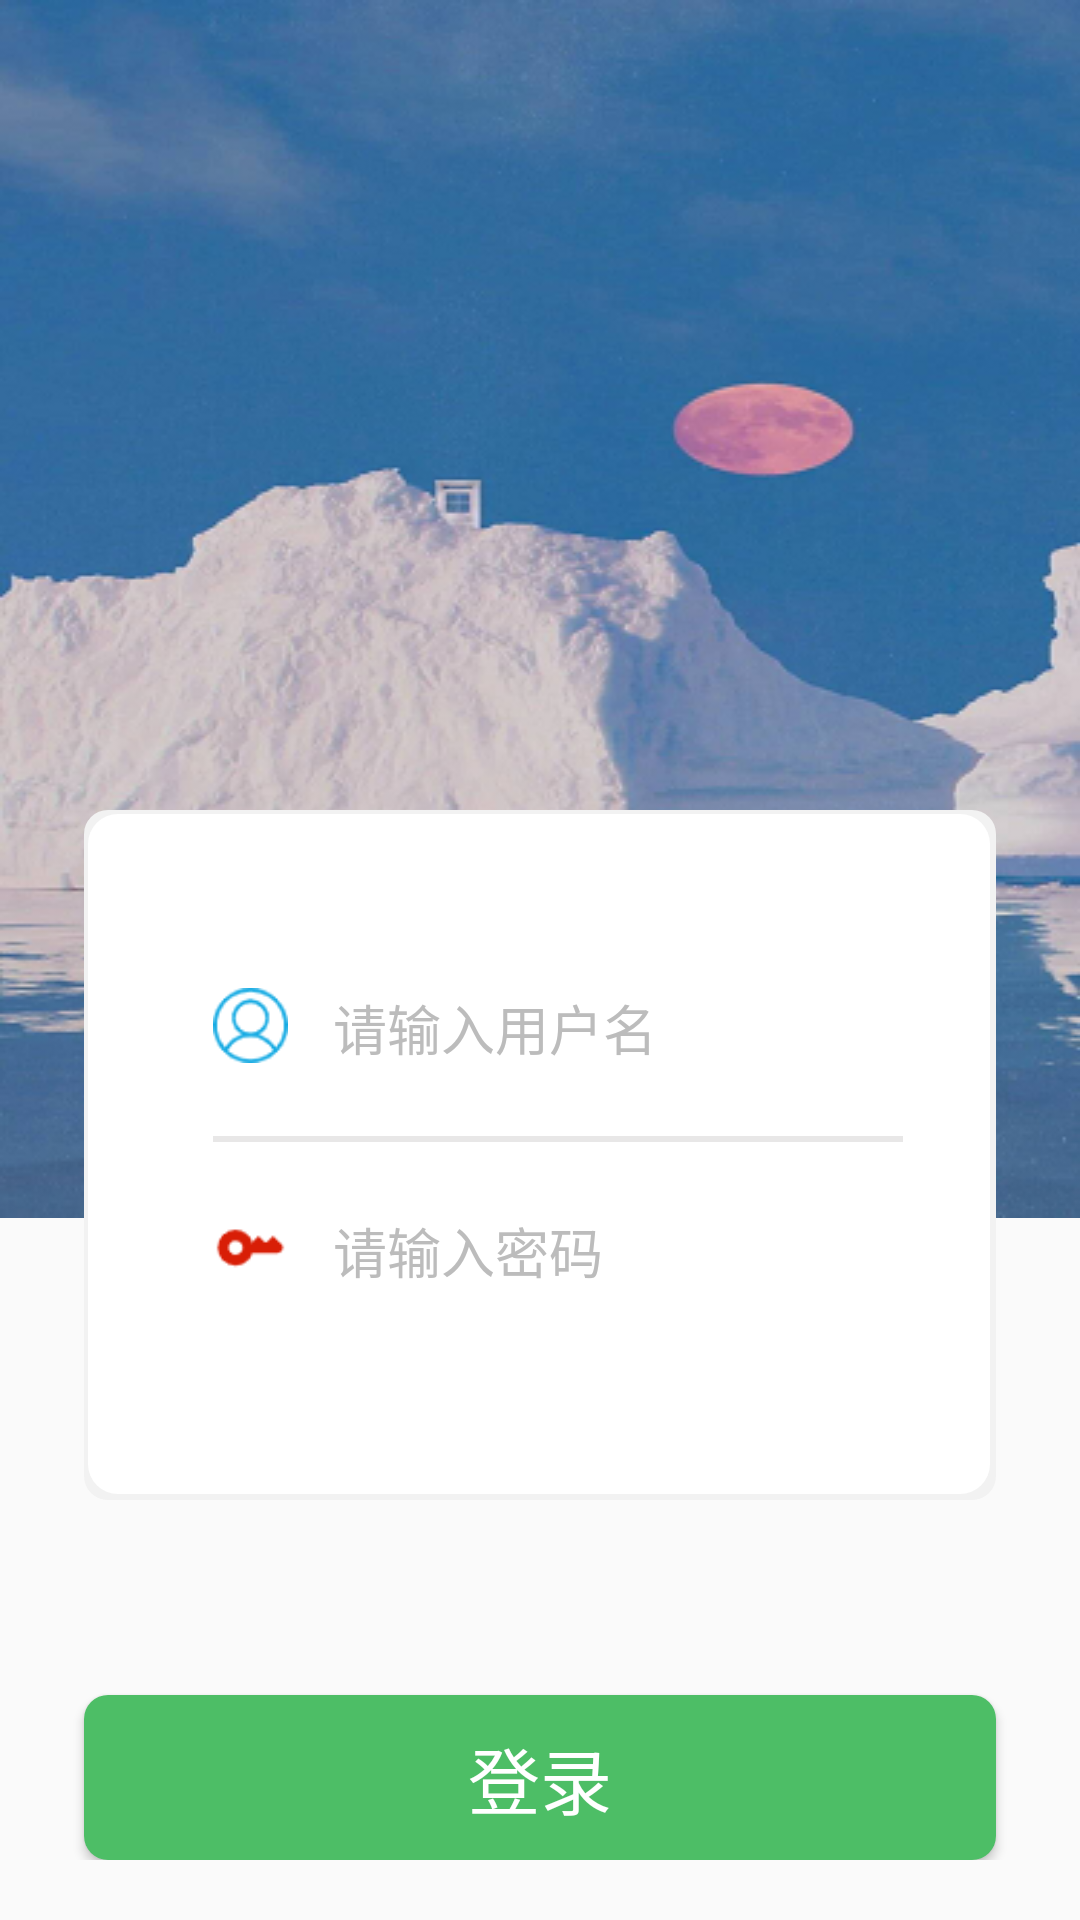

Locate icon controls on the screen. Image size 1080×1920, boxes as [left=x1, top=y1, right=x2, bottom=y2].
psd iv: [left=216, top=1229, right=284, bottom=1267]
user iv: [left=213, top=988, right=288, bottom=1063]
